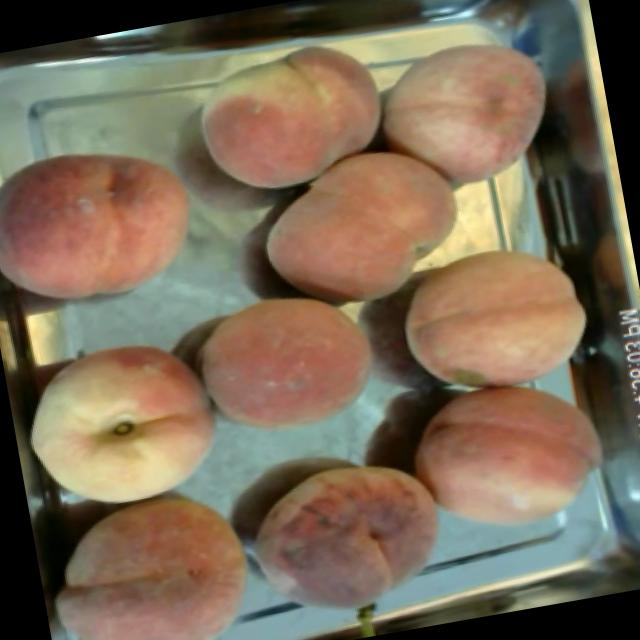Fruit: (215, 427, 471, 640), (237, 119, 486, 329), (0, 312, 244, 522), (173, 8, 409, 220), (168, 262, 396, 464), (0, 117, 217, 327), (352, 7, 577, 208), (389, 366, 623, 555), (29, 469, 285, 640), (379, 216, 605, 404)
